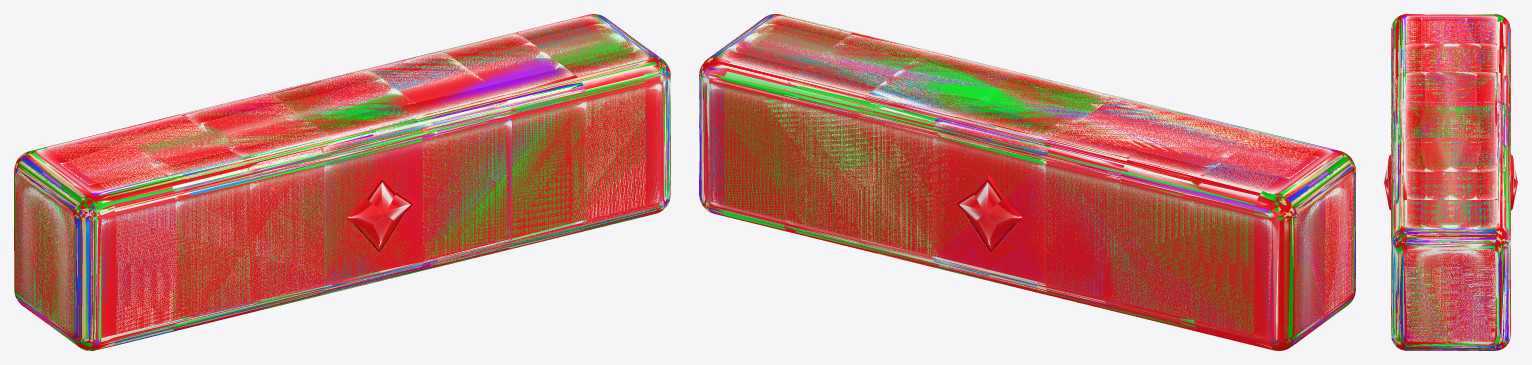
The model's file is plastic-artwork-77.glb.
The picture shows the model from 3 angles, left to right: view 1: azimuth 30°, elevation 25°; view 2: azimuth 150°, elevation 25°; view 3: azimuth 270°, elevation 25°; orthographic projection. The views are drawn at different scales.
Parts seen in each view (by area): view 1: PLASTIC_Ruby_Red_XLong_Surface, PLASTIC_Ruby_Red_Long_Surface, PLASTIC_Ruby_Red_Base_Surface, PLASTIC_Jade_Green_Long_Surface, PLASTIC_Ivory_XLong_Surface, PLASTIC_Jade_Green_XLong_Surface, PLASTIC_Ruby_Red_Cube_Surface, PLASTIC_Ruby_Red_Vertical_XLong_Surface, PLASTIC_Violet_Long_Surface, PLASTIC_Ivory_Vertical_XLong_Surface, PLASTIC_Jade_Green_Vertical_XLong_Surface, PLASTIC_Jade_Green_Base_Surface (+23 smaller); view 2: PLASTIC_Ruby_Red_XLong_Surface, PLASTIC_Ruby_Red_Long_Surface, PLASTIC_Jade_Green_XLong_Surface, PLASTIC_Ruby_Red_Base_Surface, PLASTIC_Ruby_Red_Cube_Surface, PLASTIC_Ruby_Red_Vertical_XLong_Surface, PLASTIC_Ivory_XLong_Surface, PLASTIC_Jade_Green_Long_Surface, PLASTIC_Ivory_Long_Surface, PLASTIC_Violet_XLong_Surface, PLASTIC_Ruby_Red_Vertical_Cube_Surface, PLASTIC_Jade_Green_Vertical_XLong_Surface (+17 smaller); view 3: PLASTIC_Ruby_Red_XLong_Surface, PLASTIC_Ruby_Red_Long_Surface, PLASTIC_Ruby_Red_Base_Surface, PLASTIC_Ivory_XLong_Surface, PLASTIC_Jade_Green_XLong_Surface, PLASTIC_Ruby_Red_Vertical_XLong_Surface, PLASTIC_Violet_XLong_Surface, PLASTIC_Jade_Green_Vertical_XLong_Surface, PLASTIC_Jade_Green_Base_Surface, PLASTIC_Jade_Green_Long_Surface, PLASTIC_Violet_Vertical_XLong_Surface, PLASTIC_Ivory_Vertical_XLong_Surface (+20 smaller).
Part boxes in pixels (<box>): PLASTIC_Ruby_Red_XLong_Surface: <box>14,14,670,349</box>; PLASTIC_Ruby_Red_Long_Surface: <box>108,33,586,330</box>; PLASTIC_Ruby_Red_Base_Surface: <box>183,52,511,313</box>; PLASTIC_Jade_Green_Long_Surface: <box>137,33,586,325</box>; PLASTIC_Ivory_XLong_Surface: <box>14,14,670,342</box>; PLASTIC_Jade_Green_XLong_Surface: <box>14,15,670,350</box>; PLASTIC_Ruby_Red_Cube_Surface: <box>261,70,437,288</box>; PLASTIC_Ruby_Red_Vertical_XLong_Surface: <box>14,14,670,350</box>; PLASTIC_Violet_Long_Surface: <box>173,53,583,317</box>; PLASTIC_Ivory_Vertical_XLong_Surface: <box>17,18,669,350</box>; PLASTIC_Jade_Green_Vertical_XLong_Surface: <box>14,14,670,350</box>; PLASTIC_Jade_Green_Base_Surface: <box>188,52,510,303</box>; PLASTIC_Ruby_Red_XLong_Surface: <box>699,14,1355,350</box>; PLASTIC_Ruby_Red_Long_Surface: <box>783,32,1261,331</box>; PLASTIC_Jade_Green_XLong_Surface: <box>711,14,1354,341</box>; PLASTIC_Ruby_Red_Base_Surface: <box>858,51,1187,312</box>; PLASTIC_Ruby_Red_Cube_Surface: <box>932,70,1111,295</box>; PLASTIC_Ruby_Red_Vertical_XLong_Surface: <box>699,14,1355,350</box>; PLASTIC_Ivory_XLong_Surface: <box>699,15,1355,340</box>; PLASTIC_Jade_Green_Long_Surface: <box>783,34,1255,328</box>; PLASTIC_Ivory_Long_Surface: <box>798,41,1212,329</box>; PLASTIC_Violet_XLong_Surface: <box>699,16,1355,347</box>; PLASTIC_Ruby_Red_Vertical_Cube_Surface: <box>932,86,1109,292</box>; PLASTIC_Jade_Green_Vertical_XLong_Surface: <box>699,15,1355,344</box>; PLASTIC_Ruby_Red_XLong_Surface: <box>1391,14,1510,350</box>; PLASTIC_Ruby_Red_Long_Surface: <box>1391,43,1510,212</box>; PLASTIC_Ruby_Red_Base_Surface: <box>1391,72,1510,184</box>; PLASTIC_Ivory_XLong_Surface: <box>1391,14,1510,350</box>; PLASTIC_Jade_Green_XLong_Surface: <box>1391,14,1510,350</box>; PLASTIC_Ruby_Red_Vertical_XLong_Surface: <box>1391,14,1510,350</box>; PLASTIC_Violet_XLong_Surface: <box>1392,15,1508,350</box>; PLASTIC_Jade_Green_Vertical_XLong_Surface: <box>1391,14,1510,350</box>; PLASTIC_Jade_Green_Base_Surface: <box>1391,72,1506,175</box>; PLASTIC_Jade_Green_Long_Surface: <box>1391,43,1506,203</box>; PLASTIC_Violet_Vertical_XLong_Surface: <box>1392,23,1510,350</box>; PLASTIC_Ivory_Vertical_XLong_Surface: <box>1391,14,1510,350</box>.
Bounding box in the file's own units: 4 × 1 × 1.
5 materials, 5 textured.
